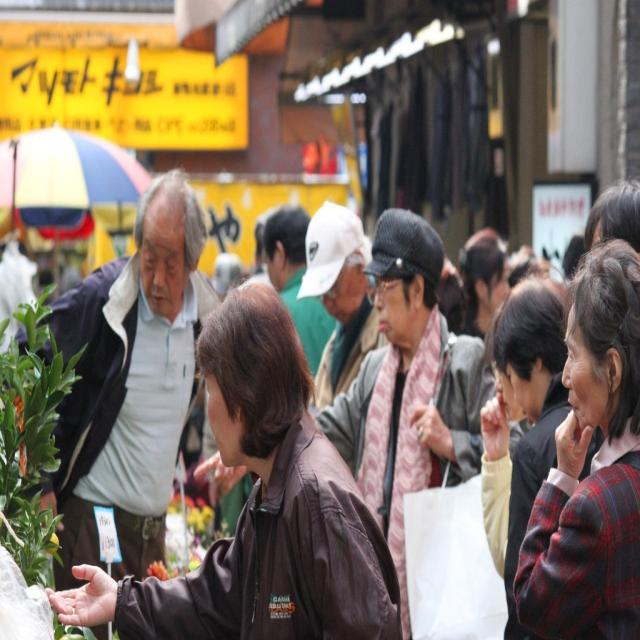body: (45, 277, 406, 640), (26, 166, 224, 640), (440, 182, 640, 598), (317, 204, 498, 640), (498, 259, 605, 640), (207, 198, 347, 376)
